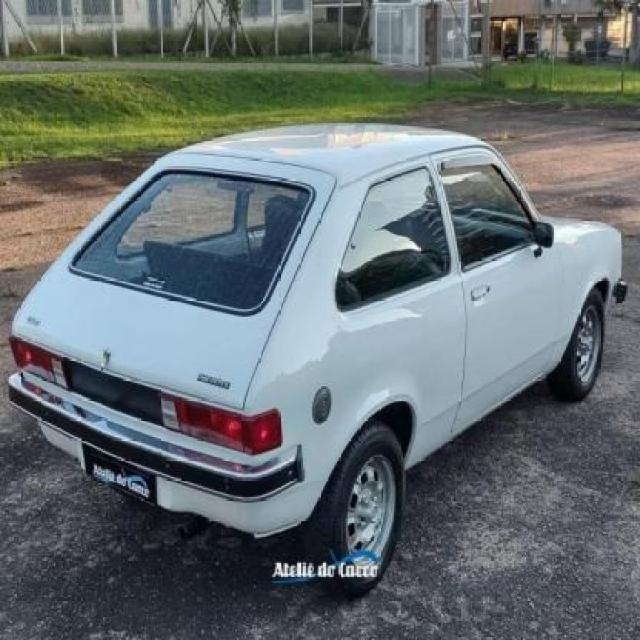car: (5, 116, 630, 596)
